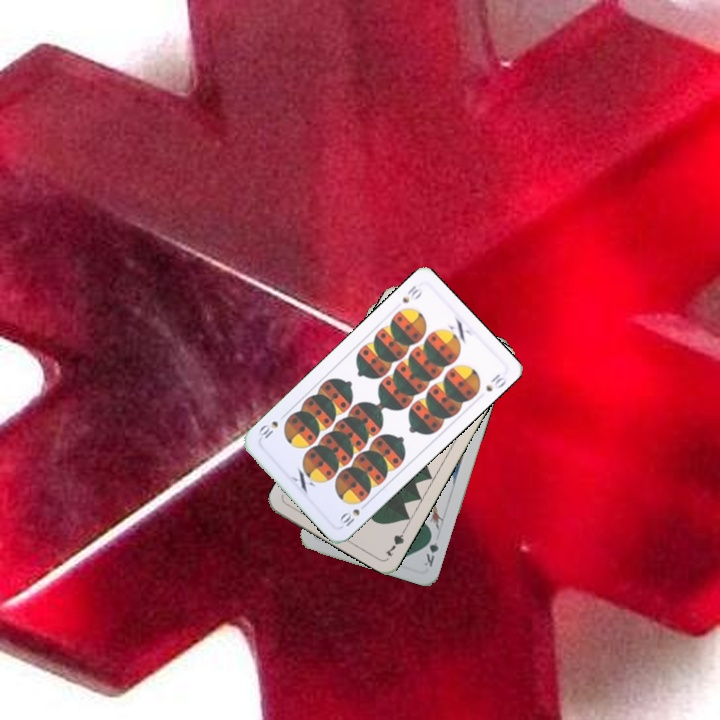G7: (381, 522, 410, 560)
GK: (419, 529, 441, 569)
S10: (335, 498, 371, 531), (398, 281, 425, 306)
